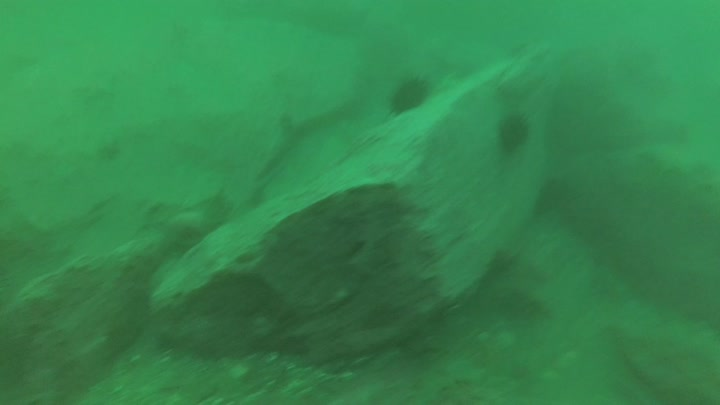echinus: (387, 75, 432, 121), (499, 111, 533, 157)
starfish: (636, 144, 704, 180)
